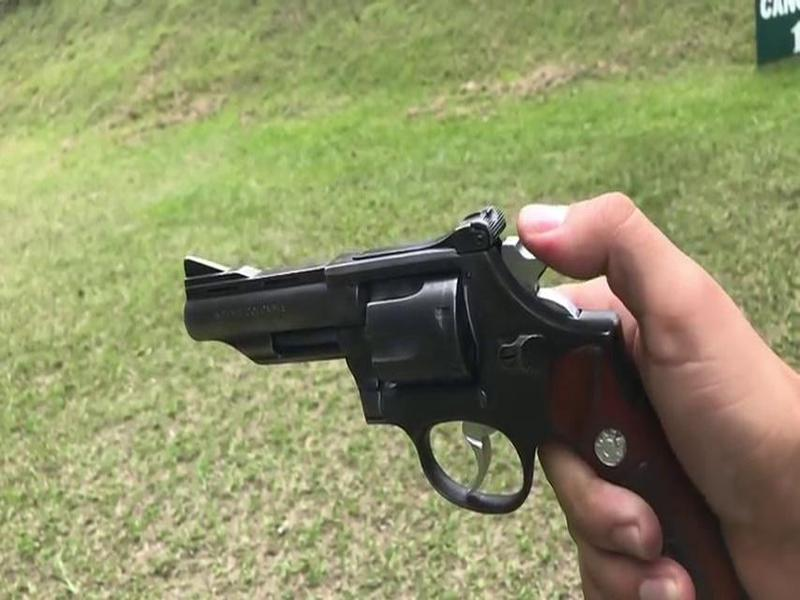Revolver: (123, 212, 732, 540)
